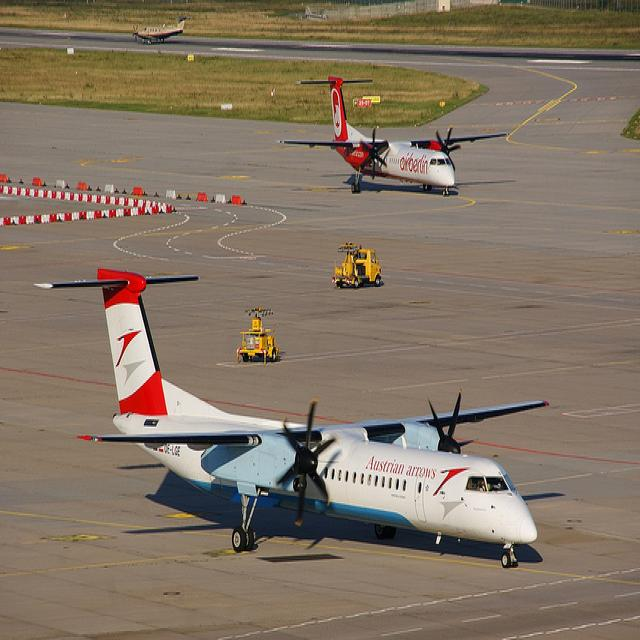Vehicle: (238, 310, 281, 364), (332, 242, 382, 288)
